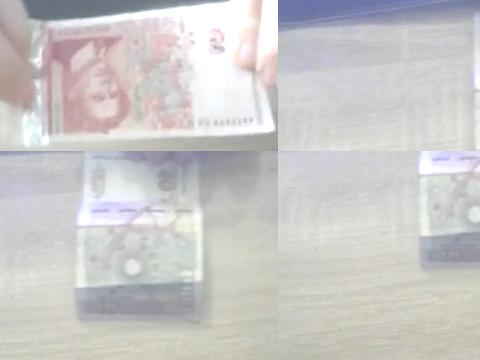10leva: (73, 151, 204, 321), (417, 151, 480, 270)
5leva: (36, 9, 274, 144)
